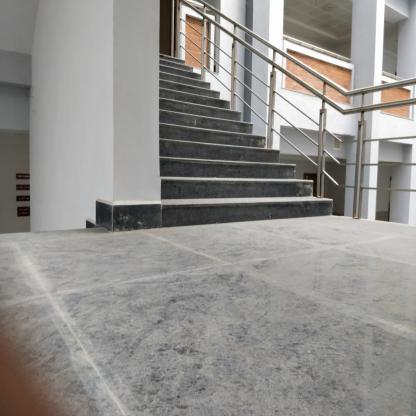stairs: (164, 61, 194, 233)
